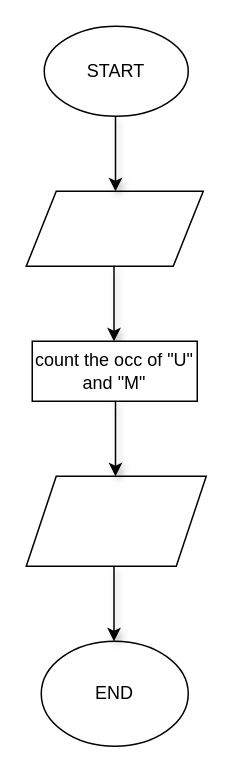
Some shapes in this 233 by 773 pixel diagram are drawn without their labels. Here are the shapes that lost their labels. From the top down, the centre of each, then its label:
[114,228]: enter a sentence
[115,520]: display the count of "U" and "M"
